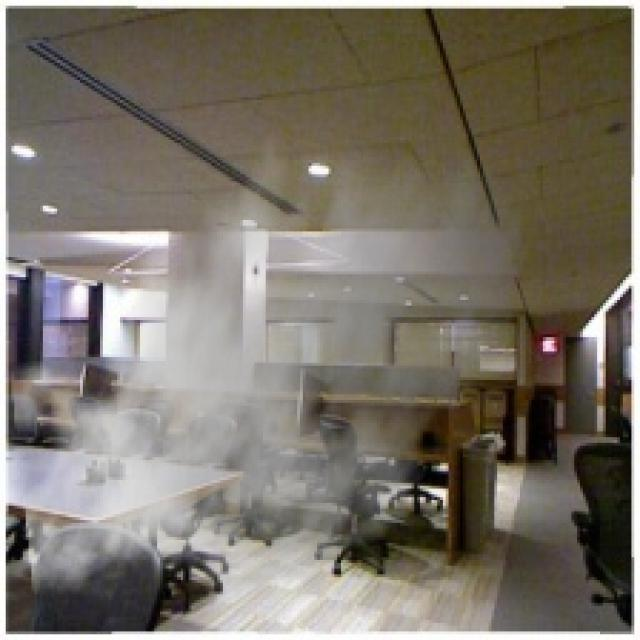Smoke: (9, 99, 532, 632)
